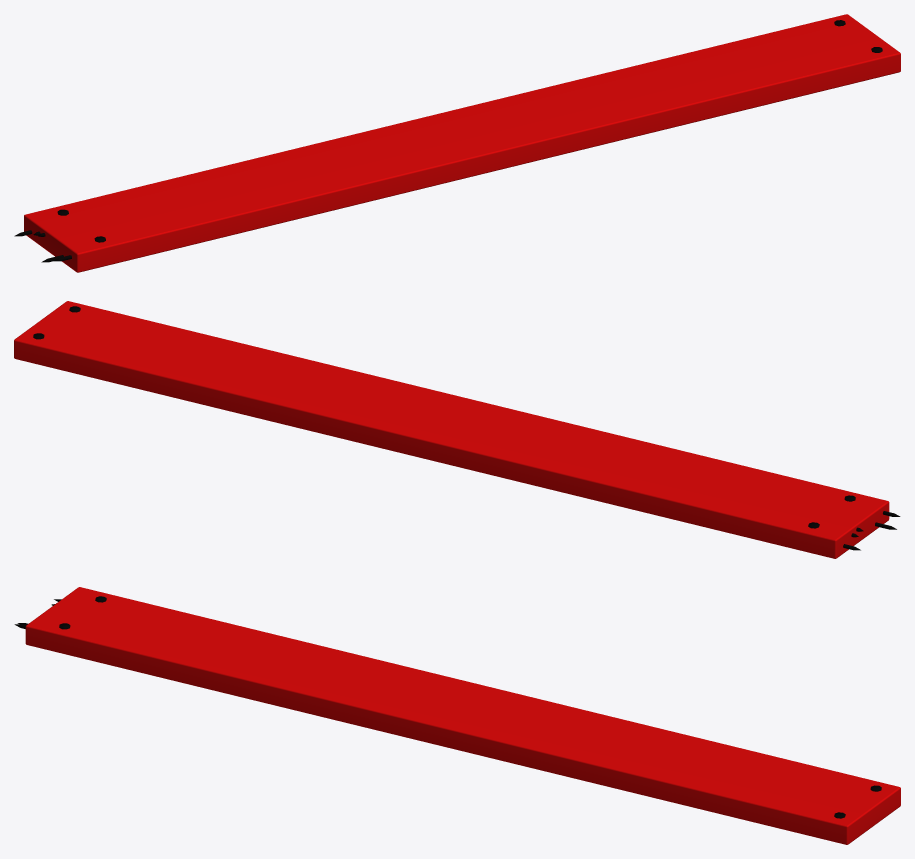
Rendered from prp_PlankA.fbx.
3 renders of one model, top to bottom at view 1: azimuth 30°, elevation 25°; view 2: azimuth 150°, elevation 25°; view 3: azimuth 330°, elevation 25°, orthographic.
Visible parts, largest first — view 1: prp_PlankA; view 2: prp_PlankA; view 3: prp_PlankA.
Boxes of the visible parts, bbox=[...] form: prp_PlankA: bbox=[14, 14, 900, 272]; prp_PlankA: bbox=[14, 301, 900, 558]; prp_PlankA: bbox=[14, 587, 900, 844].
Bounding box in the file's own units: 1.92 × 0.2122 × 0.0458.
